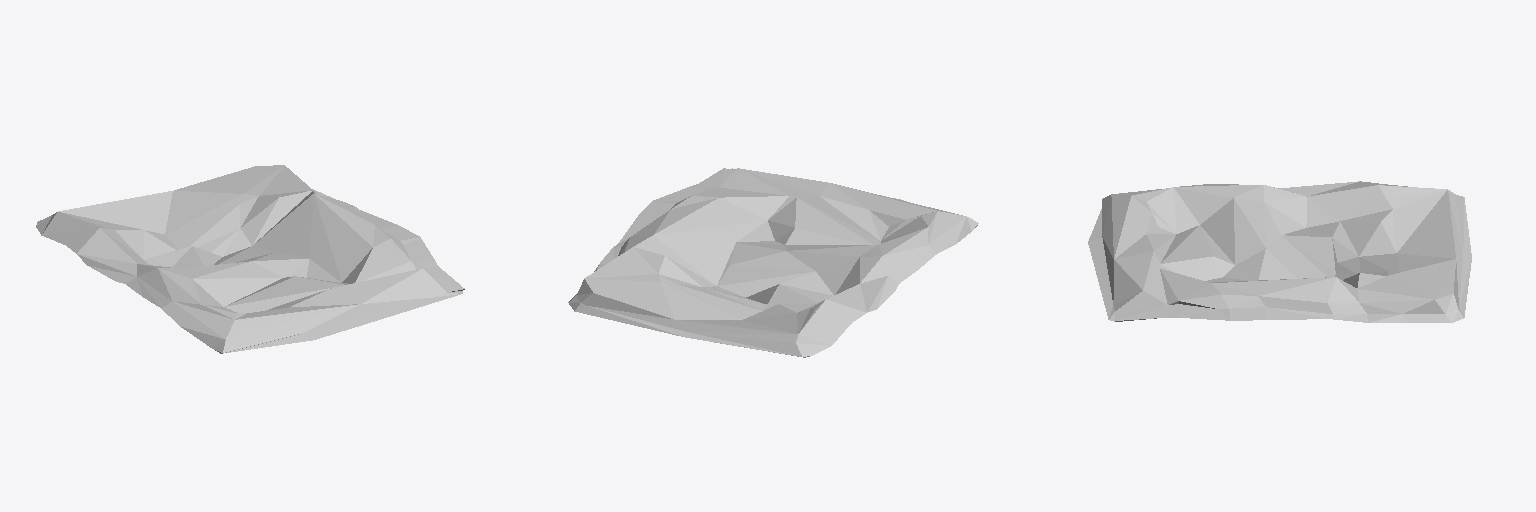
File: techo.obj
3 renders of one model, left to right at view 1: azimuth 30°, elevation 25°; view 2: azimuth 150°, elevation 25°; view 3: azimuth 270°, elevation 25°, orthographic.
Parts seen in each view (by area): view 1: cu_pCube93; view 2: cu_pCube93; view 3: cu_pCube93.
Part boxes in pixels (x1,y1,x2,y2): cu_pCube93: (36,165,464,353); cu_pCube93: (568,168,978,357); cu_pCube93: (1088,181,1471,322).
Size of the model in its own units: 39.49 by 5.67 by 47.12.